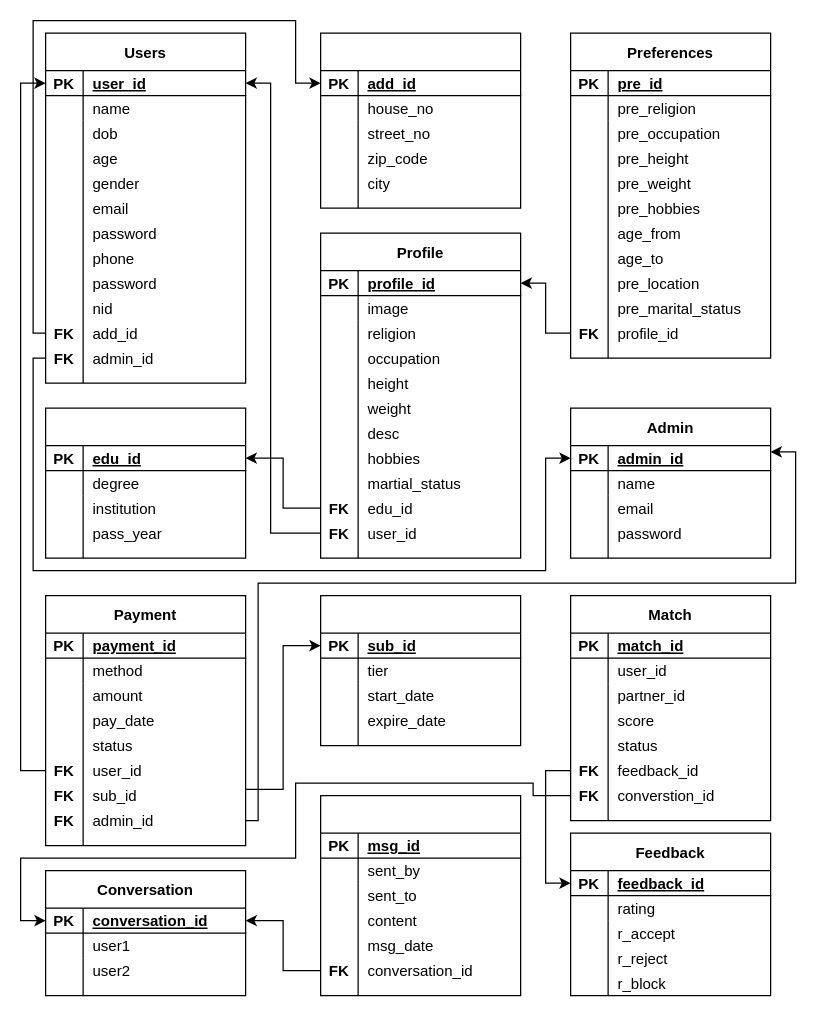
The diagram is 816 pixels wide and 1016 high, and some of its shapes have lost their labels. Here are the shapes that lost their labels. From the top down, the box of each, then its label:
(319, 32, 521, 208): Address
(44, 407, 246, 558): Education
(319, 594, 521, 746): Subscription
(319, 794, 521, 996): Messages
